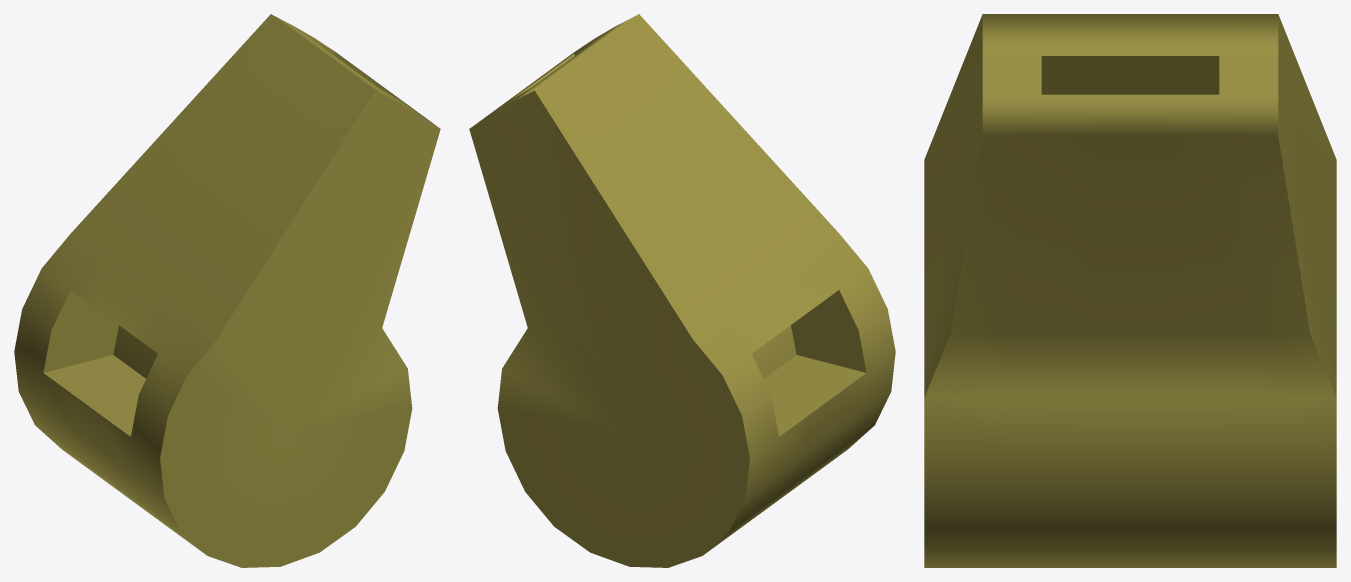
The model's file is whistle.fbx.
3 renders of one model, left to right at view 1: azimuth 30°, elevation 25°; view 2: azimuth 150°, elevation 25°; view 3: azimuth 270°, elevation 25°, orthographic. The views are drawn at different scales.
Parts seen in each view (by area): view 1: pCylinder1; view 2: pCylinder1; view 3: pCylinder1.
Boxes of the visible parts, x1,y1,x2,y2 form: pCylinder1: (14, 14, 440, 567); pCylinder1: (469, 14, 895, 567); pCylinder1: (924, 14, 1336, 567).
Size of the model in its own units: 2.39 by 3.28 by 2.
